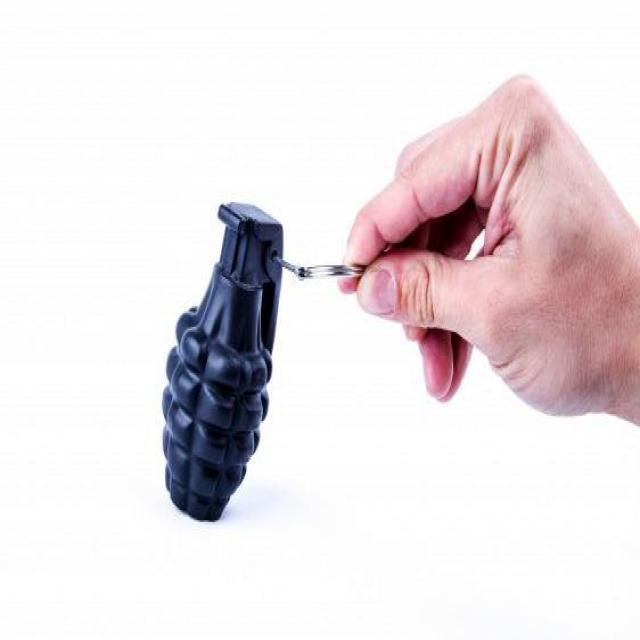grenade: (162, 203, 284, 523)
